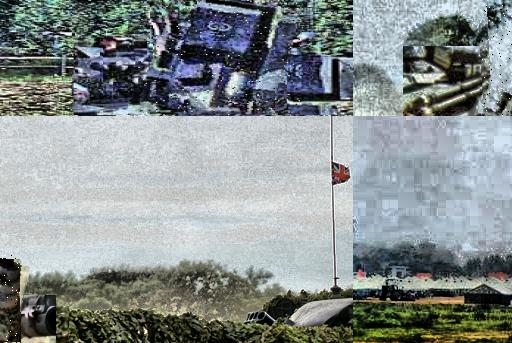tanks: (138, 1, 301, 116), (217, 298, 354, 343), (60, 312, 213, 343), (1, 261, 21, 343), (44, 342, 53, 343)
